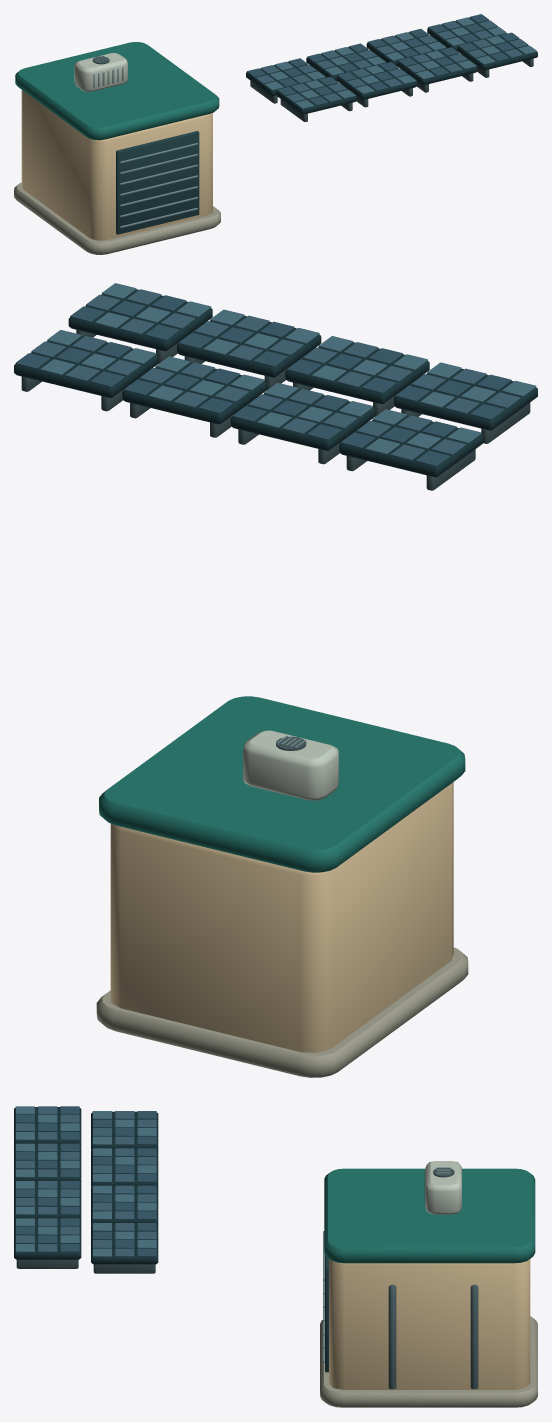
The model's file is stage_3.glb.
3 renders of one model, top to bottom at view 1: azimuth 30°, elevation 25°; view 2: azimuth 150°, elevation 25°; view 3: azimuth 270°, elevation 25°, orthographic. The views are drawn at different scales.
Parts seen in each view (by area): view 1: Stage_3; view 2: Stage_3; view 3: Stage_3.
Boxes of the visible parts, <box> form: Stage_3: <box>14,14,537,254</box>; Stage_3: <box>14,283,537,1077</box>; Stage_3: <box>14,1106,537,1407</box>.
Size of the model in its own units: 6.77 by 4.33 by 7.47.
